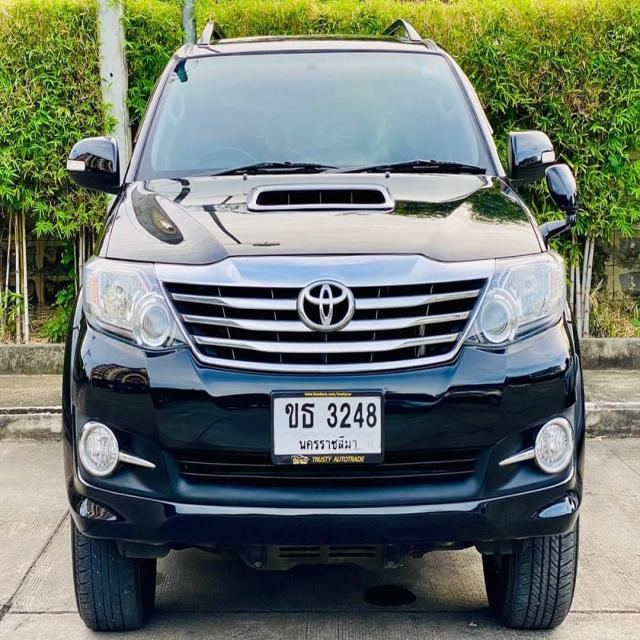license_plate: (270, 390, 389, 468)
